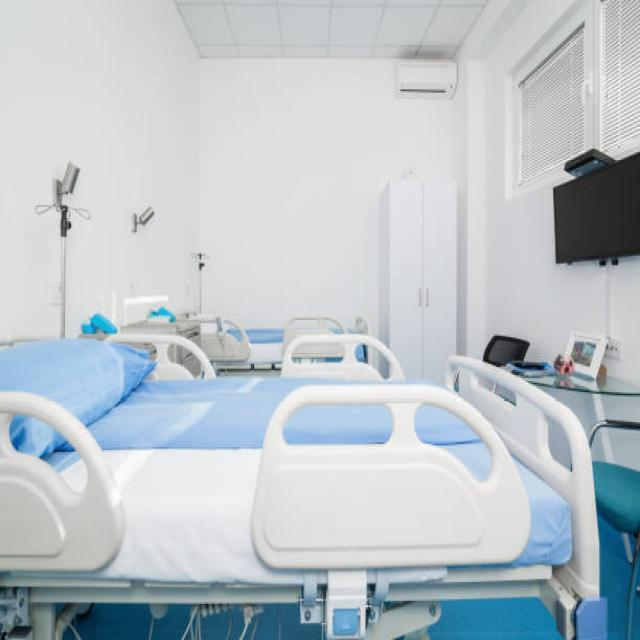bed: (0, 326, 607, 638), (125, 273, 376, 411)
